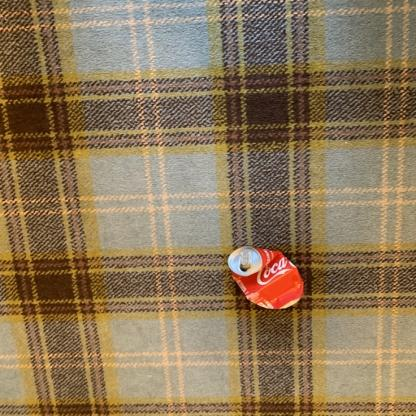trash: (227, 244, 310, 312)
